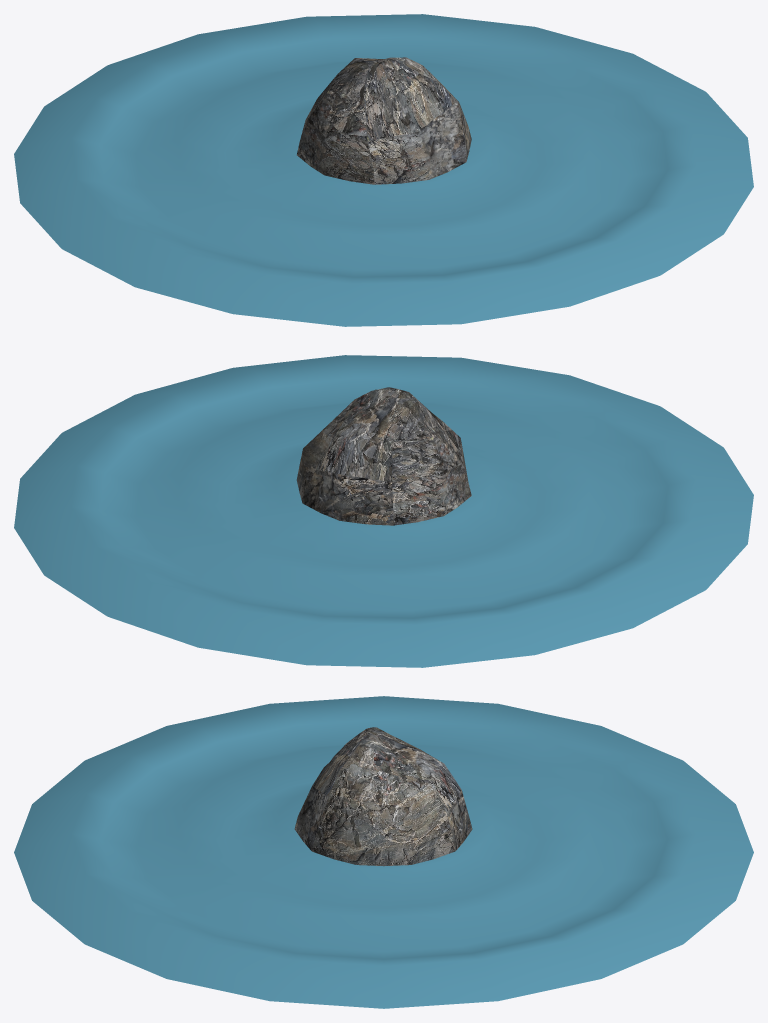
File: rock waves.fbx
3 renders of one model, top to bottom at view 1: azimuth 30°, elevation 25°; view 2: azimuth 150°, elevation 25°; view 3: azimuth 270°, elevation 25°, orthographic.
Visible parts, largest first — view 1: pSphere2, pSphere1; view 2: pSphere2, pSphere1; view 3: pSphere2, pSphere1.
Boxes of the visible parts, box(x1,y1,x2,y2) form: pSphere2: box(14, 14, 753, 326); pSphere1: box(297, 57, 471, 184); pSphere2: box(14, 355, 753, 667); pSphere1: box(296, 387, 471, 525); pSphere2: box(14, 696, 753, 1008); pSphere1: box(294, 727, 472, 866).
Size of what is drawn, in the model's own units: 617 by 125 by 617.
Materials: 2 (1 with a texture image).
